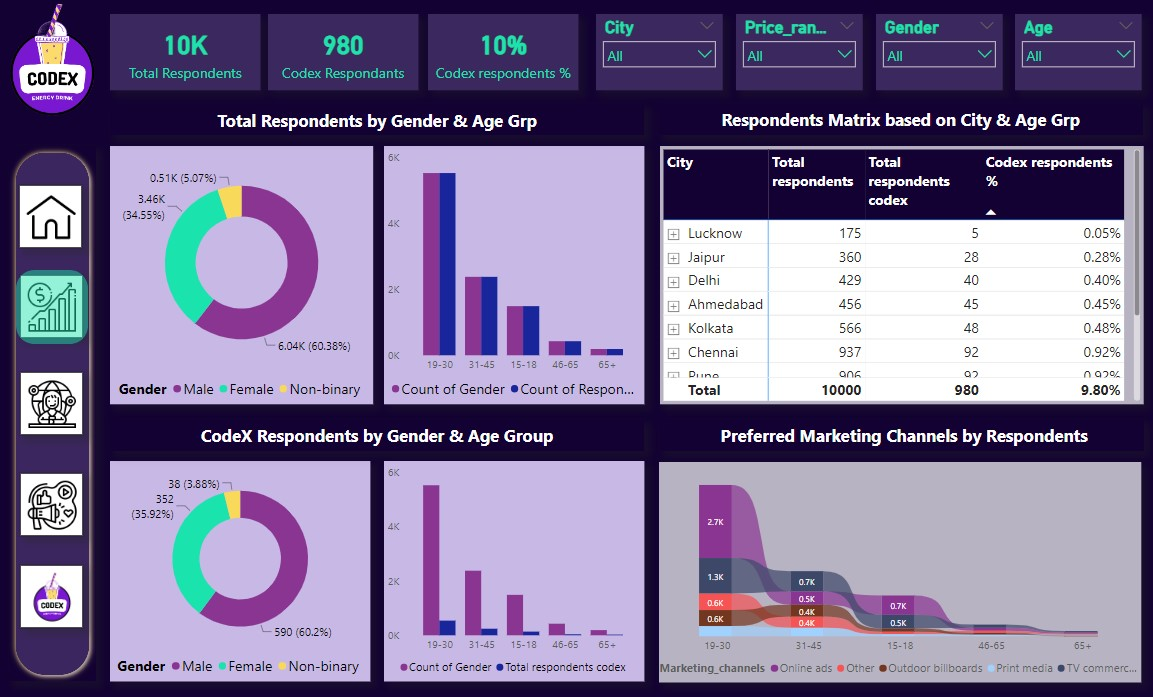

This screenshot's page, from the dashboard's own definition file:
{"tool":"powerbi","page":{"name":"Demographic View","canvas":[1650,1000],"ordinal":1},"visuals":[{"type":"card","title":"Total Respondents","fields":{"Values":["CountNonNull(codex fact_survey_responses.Respondent_ID)"]},"box":[157.4,20.4,215,109.3],"z":0},{"type":"slicer","fields":{"Values":["codex dim_repondents.Gender"]},"box":[1251.9,20.4,181.5,109.3],"z":1000},{"type":"slicer","fields":{"Values":["codex dim_repondents.Age"]},"box":[1450,20.4,181.5,109.3],"z":2000},{"type":"slicer","fields":{"Values":["codex fact_survey_responses.Price_range"]},"box":[1051.9,20.4,181.5,109.3],"z":3000},{"type":"donutChart","fields":{"Category":["codex dim_repondents.Gender","codex dim_repondents.Respondent_ID"],"Y":["CountNonNull(codex dim_repondents.Age)"]},"box":[157.4,209.3,375.9,368.5],"z":4000},{"type":"clusteredColumnChart","fields":{"Category":["codex dim_repondents.Age"],"Y":["CountNonNull(codex dim_repondents.Gender)","CountNonNull(codex dim_repondents.Respondent_ID)"]},"box":[548.1,209.3,372.2,368.5],"z":5000},{"type":"slicer","fields":{"Values":["codex dim_cities.City"]},"box":[851.9,20.4,181.5,109.3],"z":6000},{"type":"pivotTable","fields":{"Rows":["codex dim_cities.City","codex dim_repondents.Age","codex dim_repondents.Gender"],"Values":["CountNonNull(codex fact_survey_responses.Response_ID)","Report measures.Total respondents codex","Report measures.Codex respondents %"]},"box":[942.6,209.3,690.7,368.5],"z":7000},{"type":"card","fields":{"Values":["Report measures.Codex respondent"]},"box":[383.3,20.4,214.8,109.3],"z":8000},{"type":"card","fields":{"Values":["Report measures.Codex respondents %"]},"box":[611.1,20.4,214.8,109.3],"z":9000},{"type":"donutChart","fields":{"Category":["codex dim_repondents.Gender"],"Y":["Report measures.Total respondents codex"]},"box":[157.4,659.3,372.2,314.8],"z":10000},{"type":"textbox","box":[157.4,150,763,42.6],"z":11000},{"type":"textbox","box":[157.4,600,763,44.4],"z":12000},{"type":"textbox","box":[942.6,600,690.7,44.4],"z":13000},{"type":"textbox","box":[940.7,148.1,690.7,44.4],"z":14000},{"type":"clusteredColumnChart","fields":{"Category":["codex dim_repondents.Age"],"Y":["CountNonNull(codex dim_repondents.Gender)","Report measures.Total respondents codex"]},"box":[548.1,659.3,372.2,314.8],"z":15000},{"type":"shape","box":[13,209.3,124.1,764.8],"z":16000},{"type":"ribbonChart","fields":{"Series":["codex fact_survey_responses.Marketing_channels"],"Y":["CountNonNull(codex fact_survey_responses.Respondent_ID)"],"Category":["codex dim_repondents.Age"]},"box":[941.8,660,689.1,314.5],"z":18000},{"type":"image","box":[1.4,0,145.7,171.4],"z":19000},{"type":"image","box":[27.1,264.3,90,90],"z":20000},{"type":"image","box":[28.6,675.7,90,90],"z":21000},{"type":"image","box":[28.6,531.4,90,90],"z":22000},{"type":"image","box":[28.6,392.9,90,90],"z":23000},{"type":"image","box":[28.6,807.1,90,90],"z":24000},{"type":"shape","box":[22.9,385.7,102.9,105.7],"z":24500}]}

Visuals, with their boxes in screenshot pixels (x1, y1, x2, y2), scaled from the page's 1650x1000 canvas onto the 1153x697 screenshot:
"Total Respondents" card: <bbox>110, 14, 260, 90</bbox>
slicer - codex dim_repondents.Gender: <bbox>875, 14, 1002, 90</bbox>
slicer - codex dim_repondents.Age: <bbox>1013, 14, 1140, 90</bbox>
slicer - codex fact_survey_responses.Price_range: <bbox>735, 14, 862, 90</bbox>
donutChart - codex dim_repondents.Gender x codex dim_repondents.Respondent_ID: <bbox>110, 146, 373, 403</bbox>
clusteredColumnChart - codex dim_repondents.Age x CountNonNull(codex dim_repondents.Gender): <bbox>383, 146, 643, 403</bbox>
slicer - codex dim_cities.City: <bbox>595, 14, 722, 90</bbox>
pivotTable - codex dim_cities.City x codex dim_repondents.Age: <bbox>659, 146, 1141, 403</bbox>
card - Report measures.Codex respondent: <bbox>268, 14, 418, 90</bbox>
card - Report measures.Codex respondents %: <bbox>427, 14, 577, 90</bbox>
donutChart - codex dim_repondents.Gender x Report measures.Total respondents codex: <bbox>110, 460, 370, 679</bbox>
textbox: <bbox>110, 105, 643, 134</bbox>
textbox: <bbox>110, 418, 643, 449</bbox>
textbox: <bbox>659, 418, 1141, 449</bbox>
textbox: <bbox>657, 103, 1140, 134</bbox>
clusteredColumnChart - codex dim_repondents.Age x CountNonNull(codex dim_repondents.Gender): <bbox>383, 460, 643, 679</bbox>
shape: <bbox>9, 146, 96, 679</bbox>
ribbonChart - codex fact_survey_responses.Marketing_channels x CountNonNull(codex fact_survey_responses.Respondent_ID): <bbox>658, 460, 1140, 679</bbox>
image: <bbox>1, 0, 103, 119</bbox>
image: <bbox>19, 184, 82, 247</bbox>
image: <bbox>20, 471, 83, 534</bbox>
image: <bbox>20, 370, 83, 433</bbox>
image: <bbox>20, 274, 83, 337</bbox>
image: <bbox>20, 563, 83, 625</bbox>
shape: <bbox>16, 269, 88, 343</bbox>
